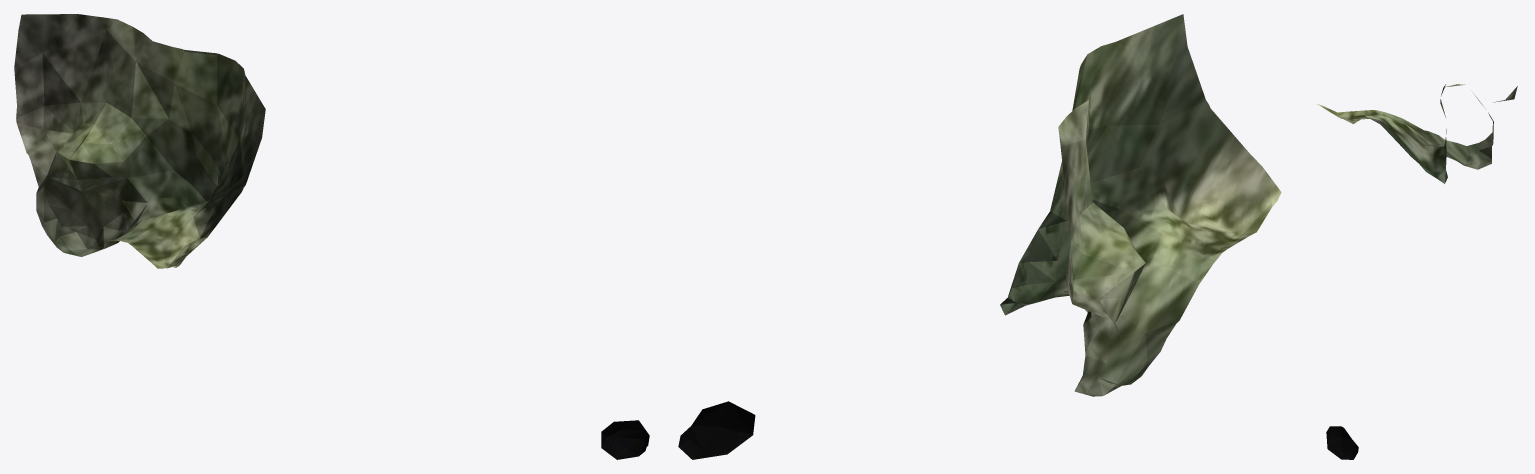
3 views of the same model, side by side, from view 1: azimuth 30°, elevation 25°; view 2: azimuth 150°, elevation 25°; view 3: azimuth 270°, elevation 25° (orthographic). The views are drawn at different scales.
Size of the model in its own units: 4.89 by 4.37 by 2.83.
Materials: 1 (1 with a texture image).
